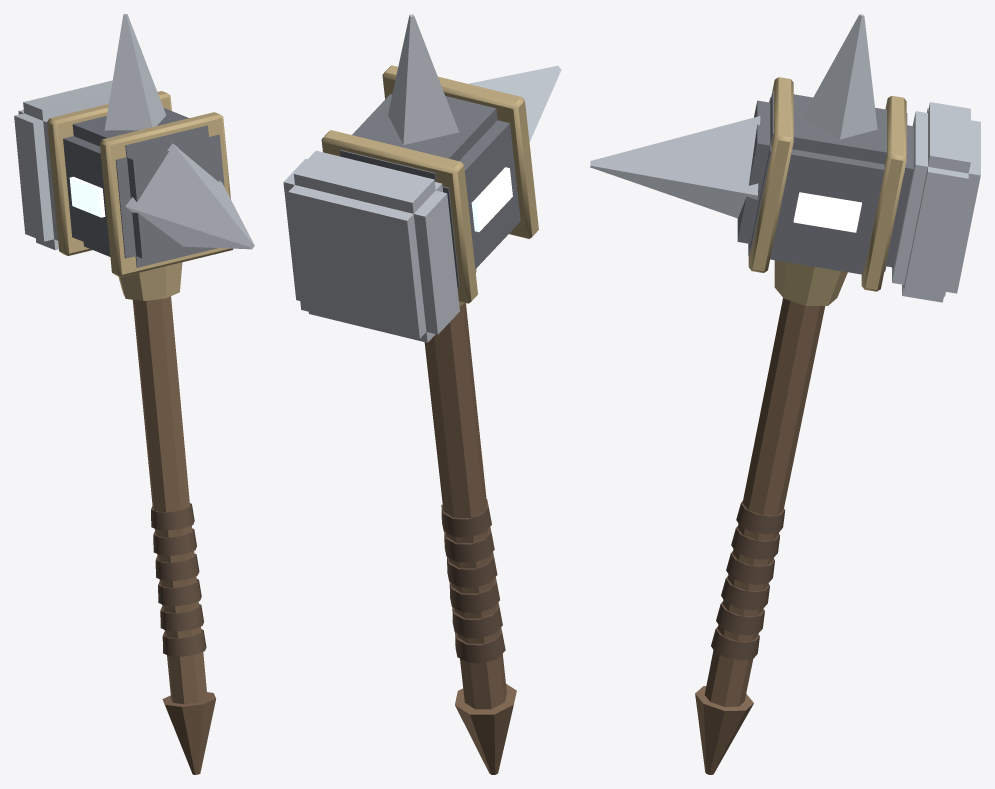
The model's file is sentinel_warhammer.glb.
3 views of the same model, side by side, from view 1: azimuth 30°, elevation 25°; view 2: azimuth 150°, elevation 25°; view 3: azimuth 270°, elevation 25° (orthographic). The views are drawn at different scales.
Visible parts, largest first — view 1: SM_Weapon_CryptWarhammer_A; view 2: SM_Weapon_CryptWarhammer_A; view 3: SM_Weapon_CryptWarhammer_A.
Boxes of the visible parts, left/top/right/bottom form: SM_Weapon_CryptWarhammer_A: left=14, top=14, right=254, bottom=774; SM_Weapon_CryptWarhammer_A: left=283, top=14, right=561, bottom=774; SM_Weapon_CryptWarhammer_A: left=590, top=14, right=980, bottom=774.
Size of the model in its own units: 0.172 by 0.9484 by 0.4423.
